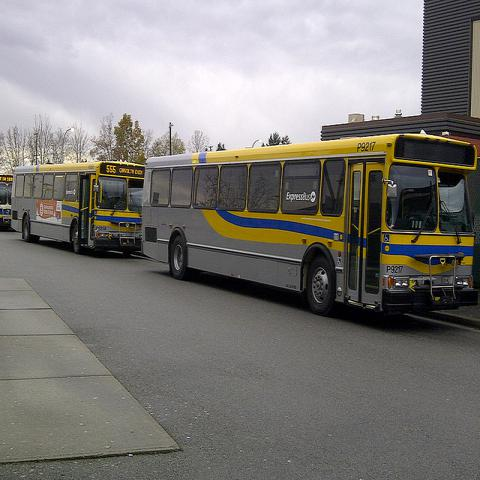bus: (139, 130, 480, 322), (9, 162, 143, 259), (0, 172, 13, 227)
